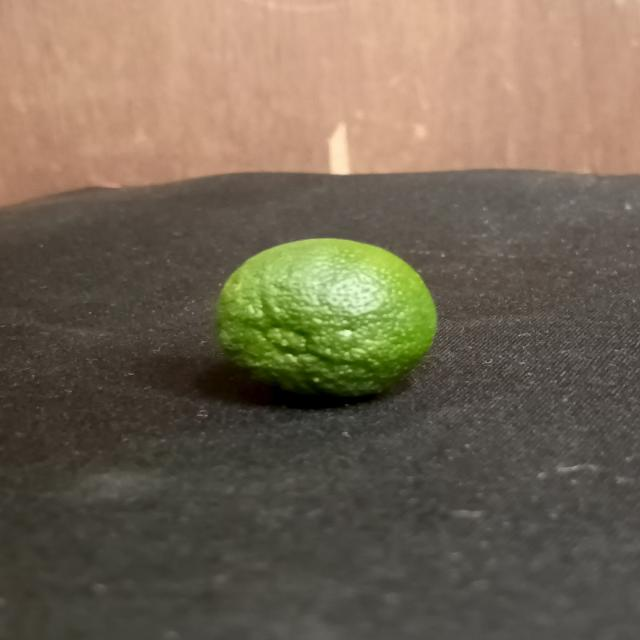heathy: (204, 234, 443, 403)
